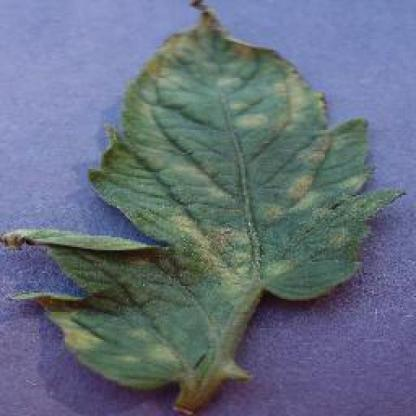Tomato_Leaf_Mold: (12, 2, 404, 384)
